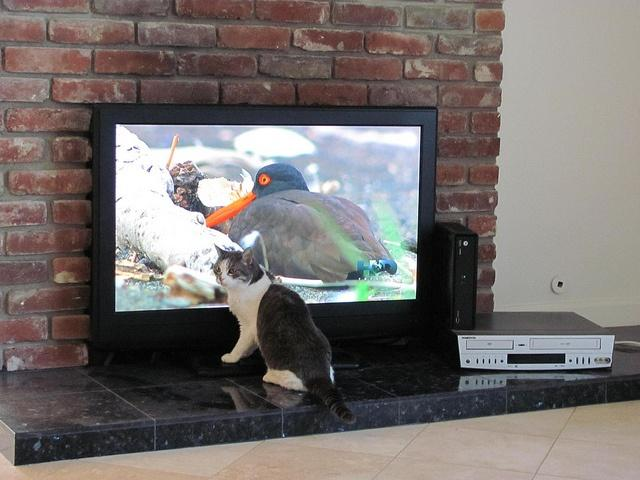AIO PC-Monitor-TV: (91, 101, 436, 353)
